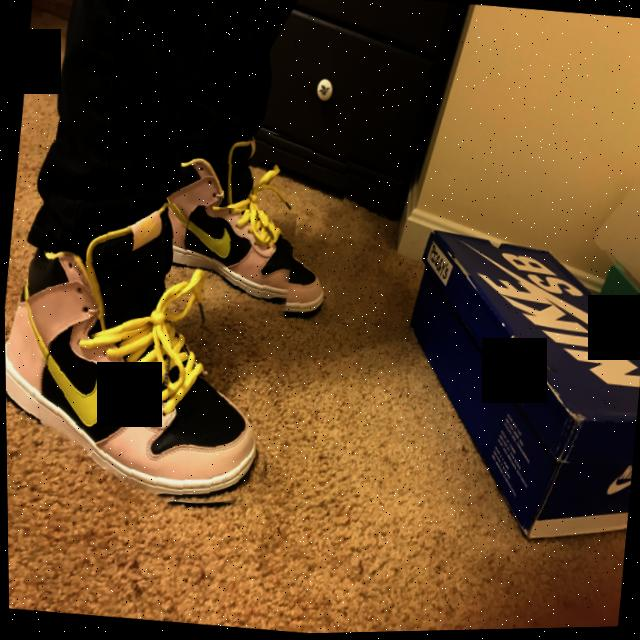shoe: (2, 185, 301, 521), (135, 118, 350, 331)
